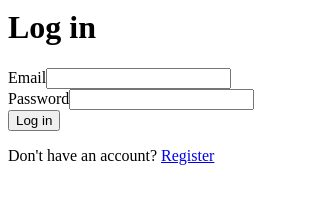
Test case: LoginPage › shows a connection error when the request fails
The image size is (320, 216).
Type "richard@example.com" into the field labelled "Email" at point(139, 78), box [46,68,231,89]
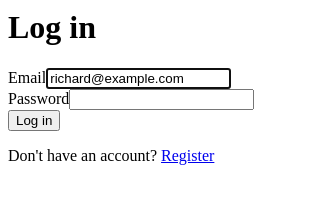
Type "the art of war is weak" into the password field labelled "Password" at point(162, 99), box [69,89,254,110]
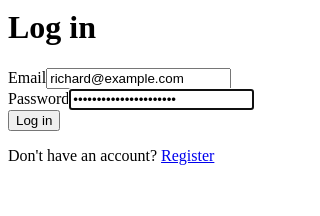
Click the button "Log in" at point(34, 120), box [8,110,60,131]
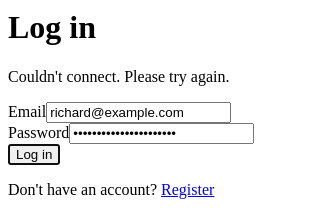
Check: the message reads "Couldn't connect. Please try again.", box [8,68,230,85]
